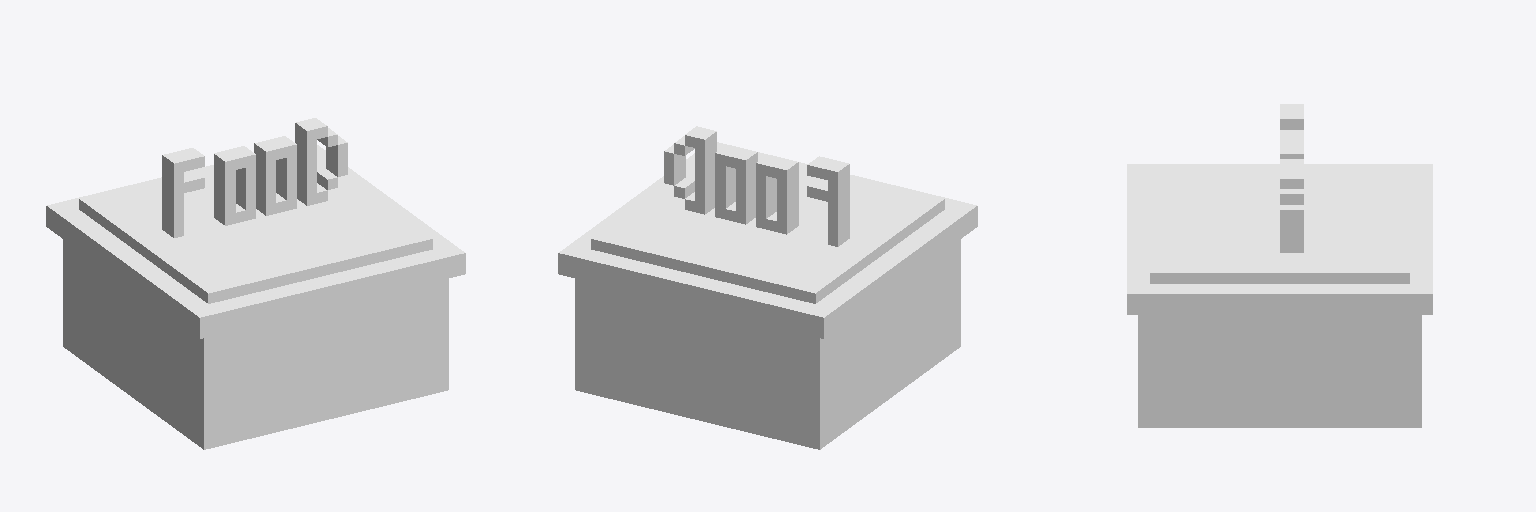
File: FoodHut.obj
The picture shows the model from 3 angles: view 1: azimuth 30°, elevation 25°; view 2: azimuth 150°, elevation 25°; view 3: azimuth 270°, elevation 25°; orthographic projection.
Parts seen in each view (by area): view 1: FoodHut; view 2: FoodHut; view 3: FoodHut.
Part boxes in pixels (left/top/right/bottom): FoodHut: left=46, top=118, right=465, bottom=449; FoodHut: left=558, top=126, right=977, bottom=449; FoodHut: left=1127, top=104, right=1432, bottom=427.
Size of the model in its own units: 26 by 21 by 26.